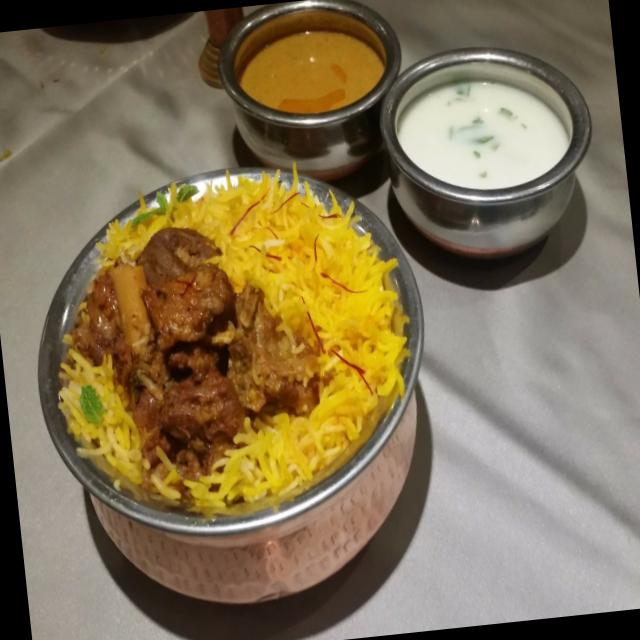Biryani: (34, 144, 427, 531)
